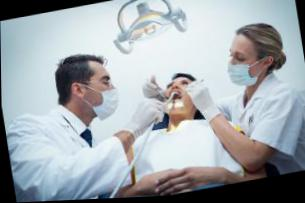NONE: (160, 77, 193, 117)
OK: (86, 71, 123, 123)
WRONG: (223, 44, 260, 93)
